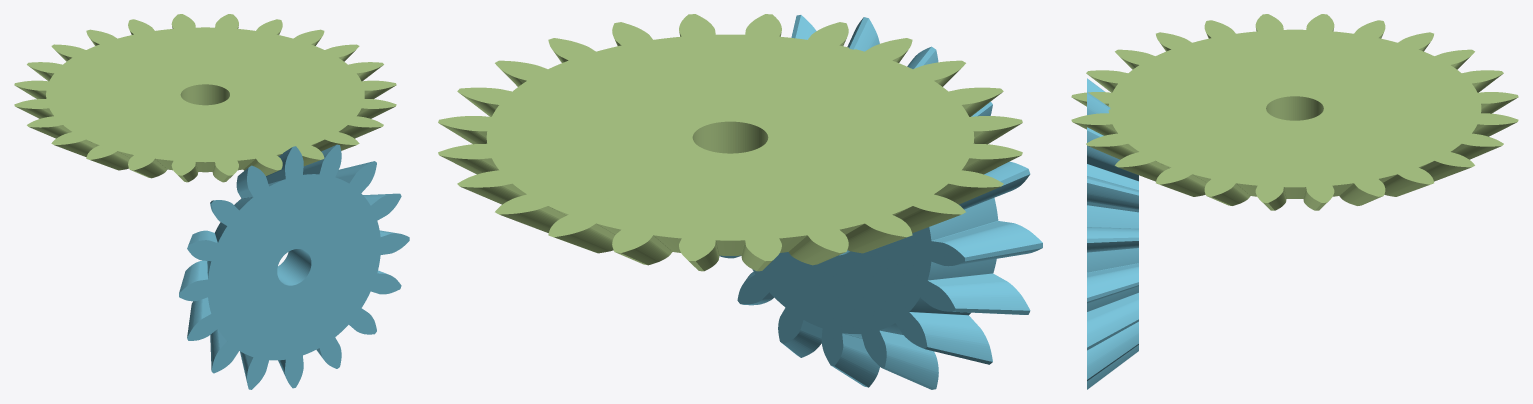
Rendered from bevel_gear_pair_demo.glb.
The picture shows the model from 3 angles, left to right: view 1: azimuth 30°, elevation 25°; view 2: azimuth 150°, elevation 25°; view 3: azimuth 270°, elevation 25°; orthographic projection. The views are drawn at different scales.
Parts seen in each view (by area): view 1: bevel_gear, bevel_pinion; view 2: bevel_gear, bevel_pinion; view 3: bevel_gear, bevel_pinion.
Part boxes in pixels (<box>): bevel_gear: <box>14,14,396,182</box>; bevel_pinion: <box>179,144,409,389</box>; bevel_gear: <box>438,14,1022,271</box>; bevel_pinion: <box>719,15,1042,389</box>; bevel_gear: <box>1071,14,1518,210</box>; bevel_pinion: <box>1087,78,1138,389</box>.
Size of the model in its own units: 38.73 by 27 by 38.73.
